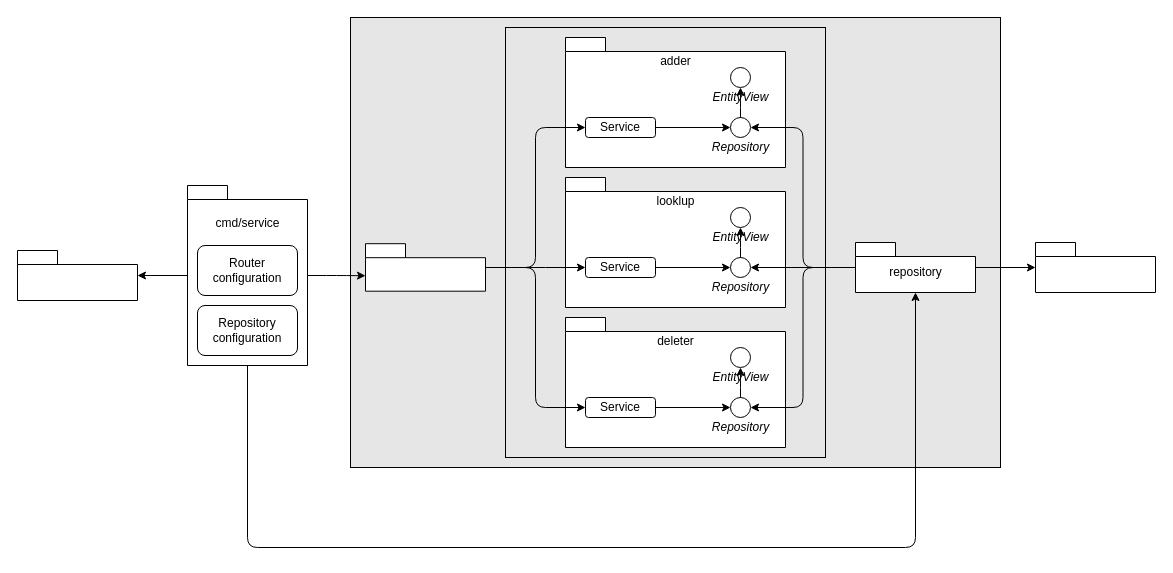
Some shapes in this 1173 by 573 pixel diagram are drawn without their labels. The shapes that lost their labels are listed below. From the top down, each one's box as (x1, y1, x2, y2) in pixels, then its label:
(16, 250, 138, 300): <<external>> Router
(364, 243, 486, 291): http/rest
(1034, 242, 1156, 292): <<external>> database
